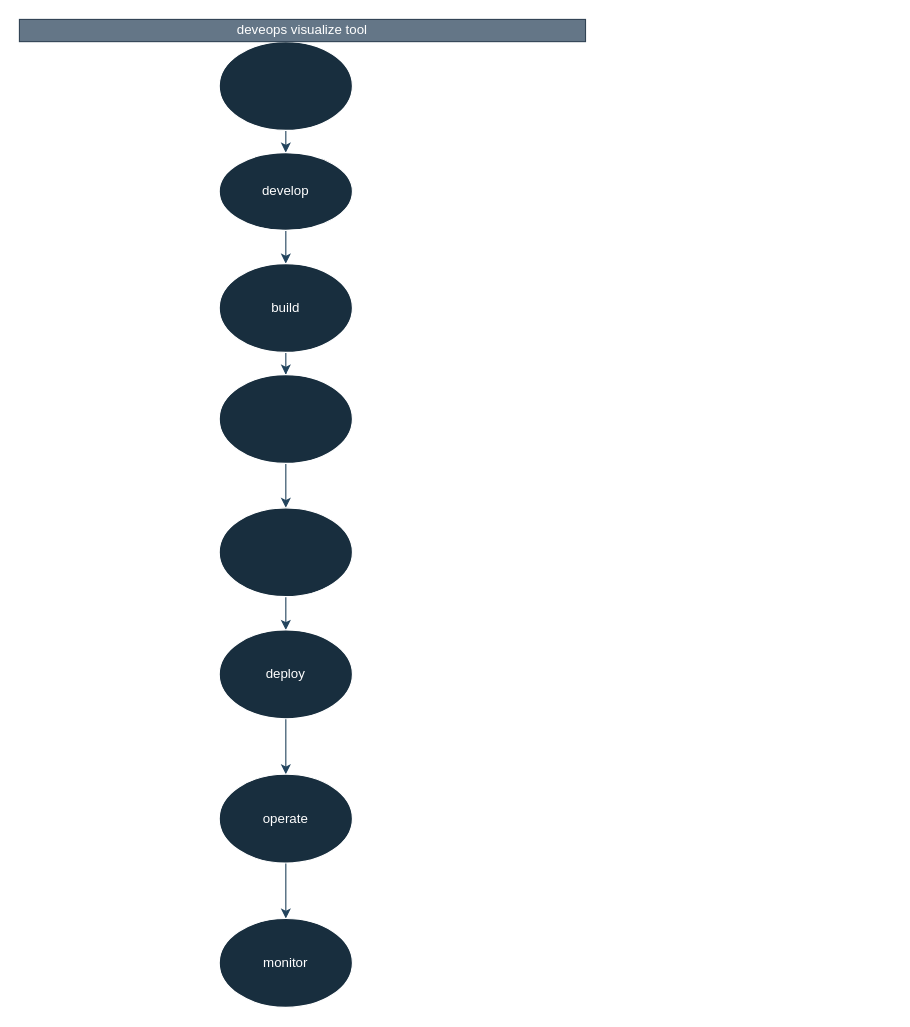
Some shapes in this 910 by 1027 pixel diagram are drawn without their labels. The shapes that lost their labels are listed below. From the top down, each one's centre as x and y in pixels, then its label:
(x=285, y=85): plan
(x=285, y=418): test
(x=285, y=552): release
